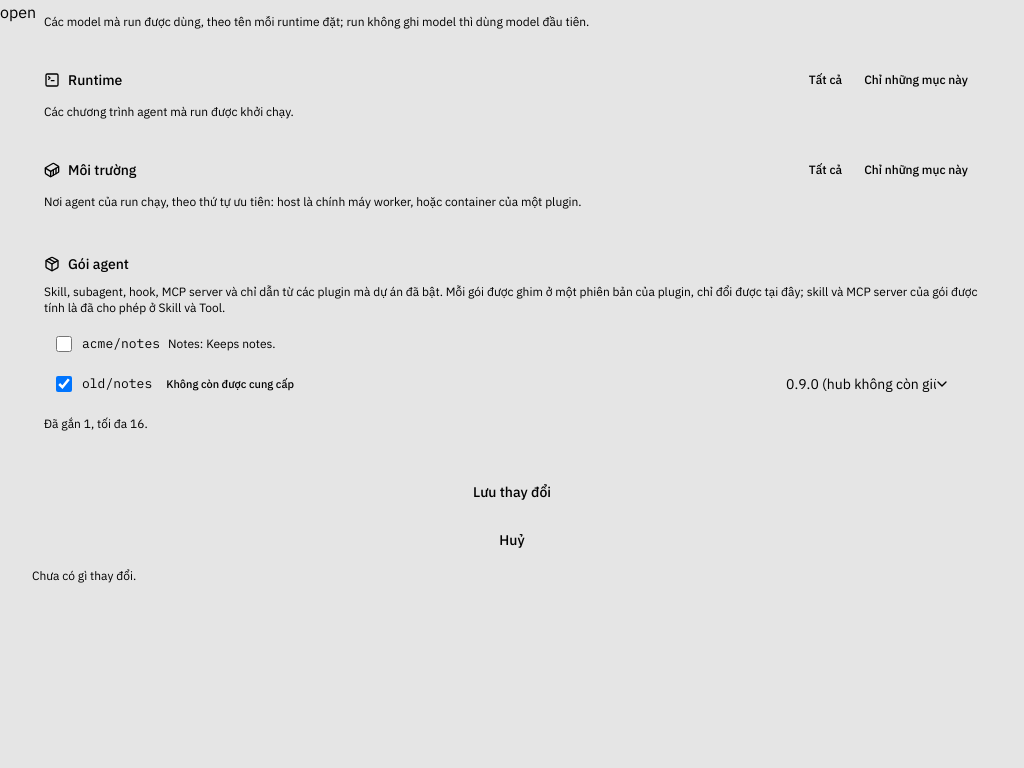
AgentDialog › keeps a pack the project no longer offers listed with a tag, so the admin can remove it
(page scrolled)
expect the text "Không còn được cung cấp" is shown: met, box x1=160 y1=375 x2=300 y2=393
Click the checkbox labelled "old/notes Không còn được cung cấp". click: [64, 384]
box: x1=56 y1=376 x2=72 y2=392
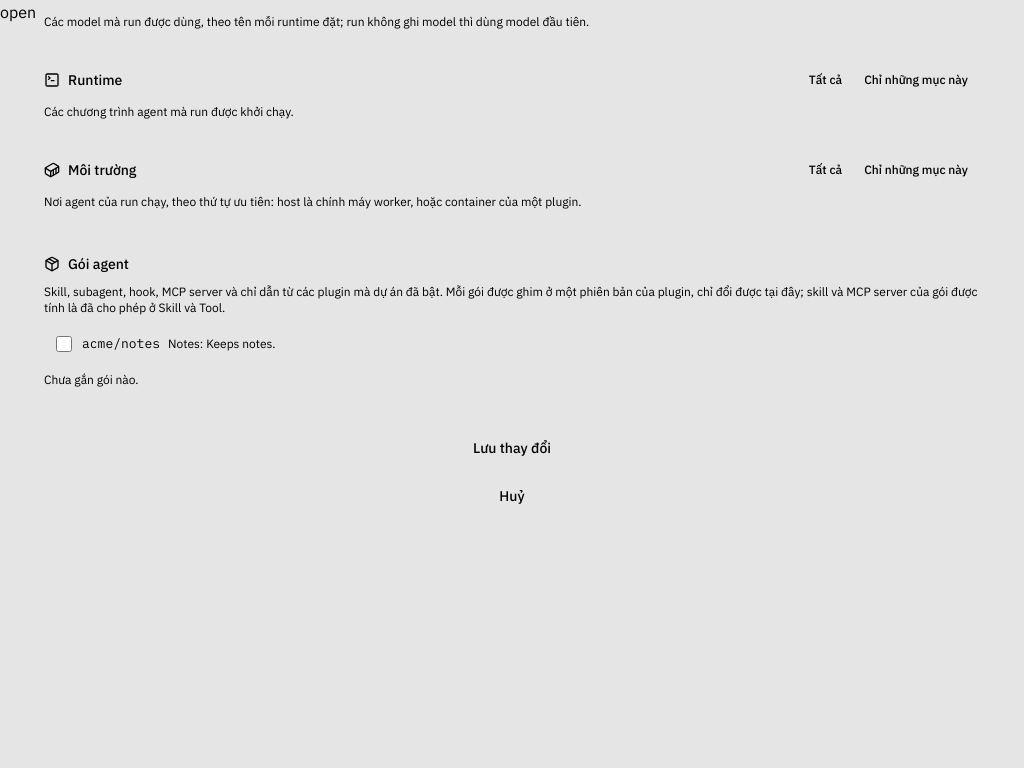
expect the text "old/notes" is gone: met
Click the button with test id "agent-save". click: [512, 448]
box: x1=32 y1=428 x2=992 y2=468
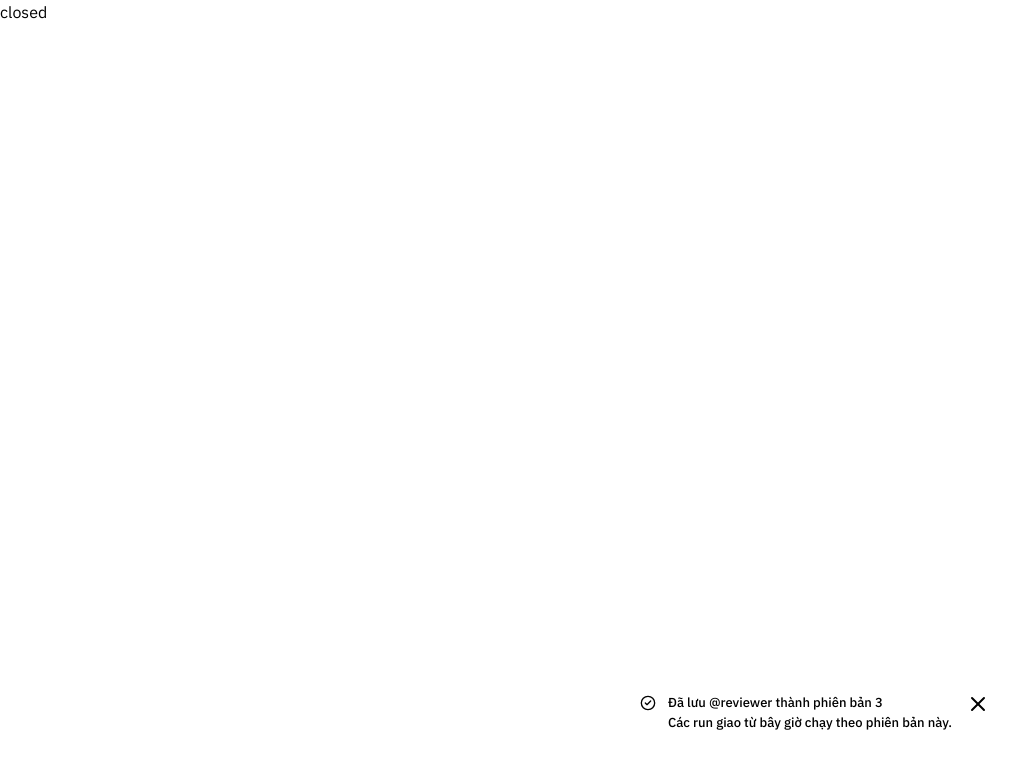
expect the text with test id "open-state" reads "closed": met, box x1=0 y1=2 x2=47 y2=22
